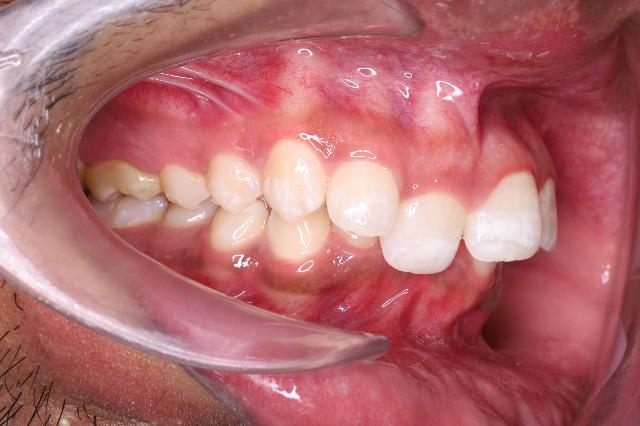canine class II 1/2: (207, 133, 335, 263)
molar class II 3/4: (81, 158, 169, 232)
